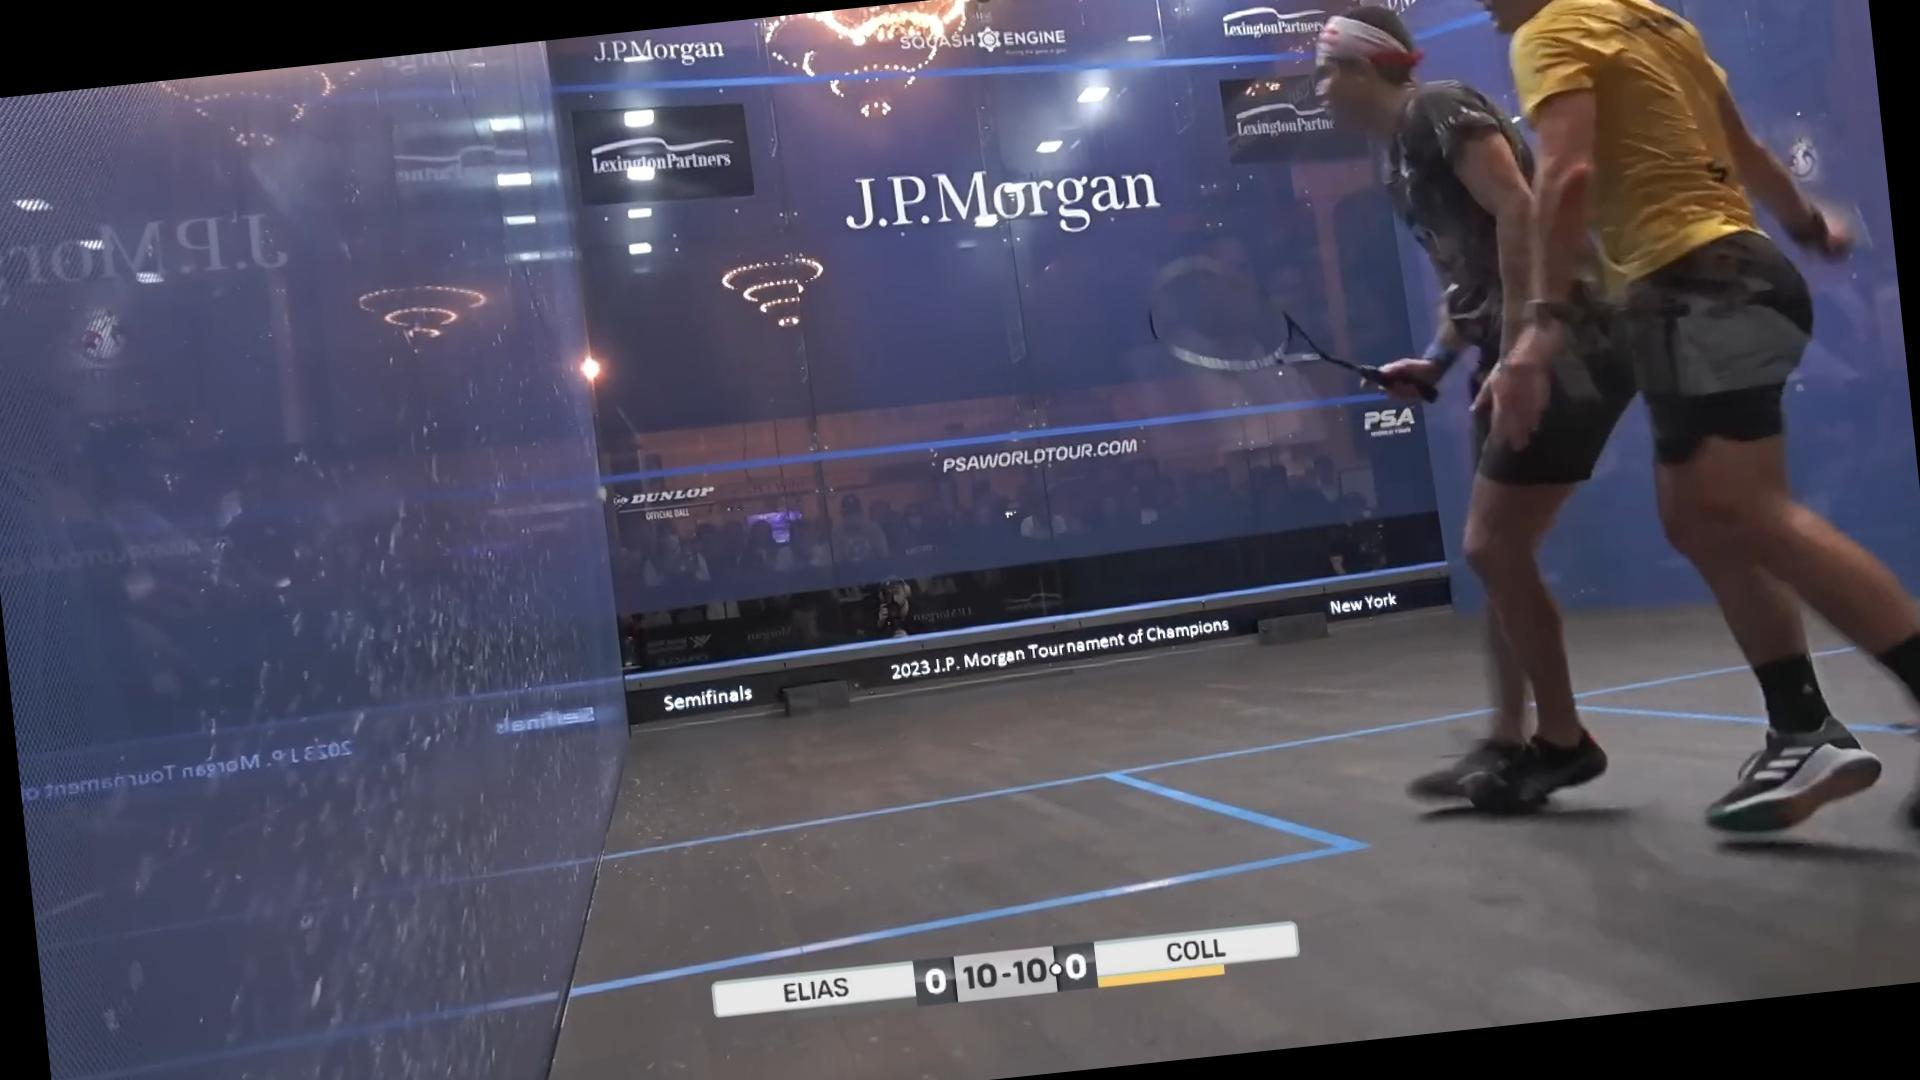Racket: (1121, 224, 1386, 415)
